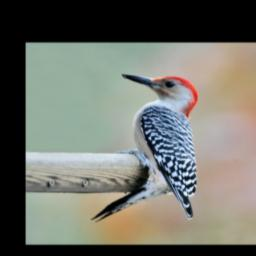Woodpecker: (82, 68, 208, 233)
